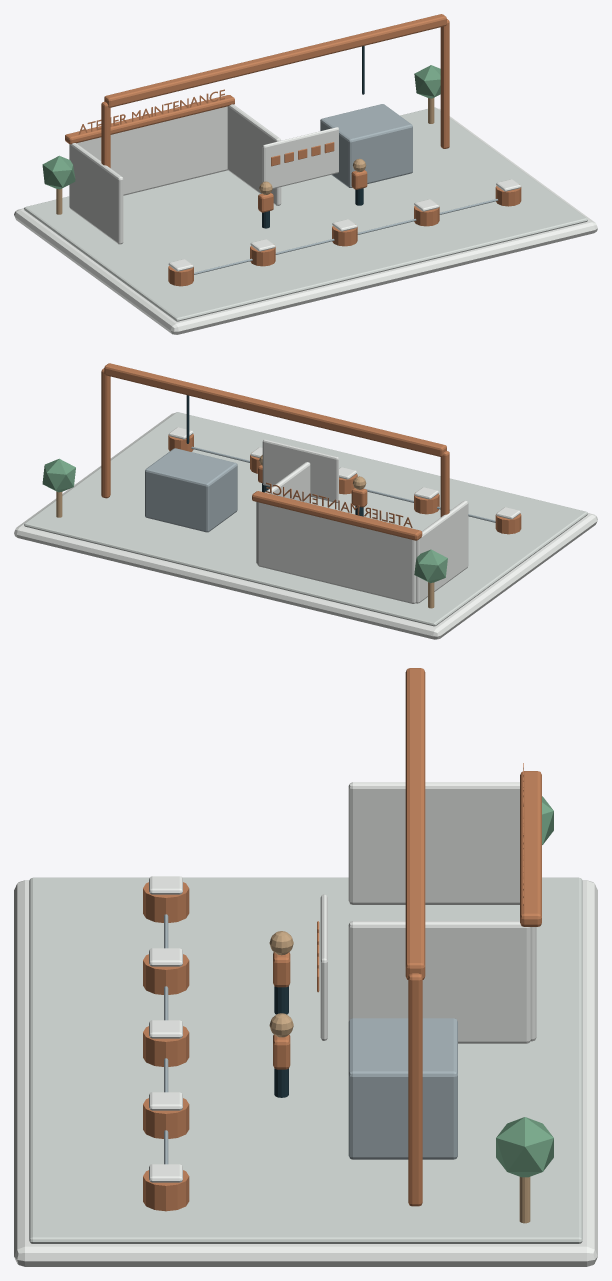
File: terrain.glb
3 renders of one model, top to bottom at view 1: azimuth 30°, elevation 25°; view 2: azimuth 150°, elevation 25°; view 3: azimuth 270°, elevation 25°, orthographic. The views are drawn at different scales.
Visible parts, largest first — view 1: Activity ground, Project island, ATELIER MAINTENANCE back, Repair assembly, Gantry beam, ATELIER MAINTENANCE side, Gemba board, ATELIER MAINTENANCE side.001, ATELIER MAINTENANCE fascia, Gantry upright.001, Icosphere, Sign ATELIER MAINTENANCE (+3 smaller); view 2: Activity ground, ATELIER MAINTENANCE back, Project island, Repair assembly, Gantry beam, Gemba board, ATELIER MAINTENANCE side, ATELIER MAINTENANCE fascia, Gantry upright.001, ATELIER MAINTENANCE side.001, Icosphere.001, Icosphere (+4 smaller); view 3: Activity ground, Project island, ATELIER MAINTENANCE side, ATELIER MAINTENANCE side.001, Repair assembly, Gantry beam, Gantry upright.001, ATELIER MAINTENANCE fascia, Icosphere.001, Process checkpoint.004, Process checkpoint, Process checkpoint.001 (+3 smaller).
Boxes of the visible parts, <box> form: Activity ground: <box>24,107,587,321</box>; Project island: <box>14,108,597,334</box>; ATELIER MAINTENANCE back: <box>77,106,227,195</box>; Repair assembly: <box>320,104,412,187</box>; Gantry beam: <box>104,14,446,107</box>; ATELIER MAINTENANCE side: <box>69,143,123,244</box>; Gemba board: <box>262,127,338,188</box>; ATELIER MAINTENANCE side.001: <box>227,104,281,205</box>; ATELIER MAINTENANCE fascia: <box>65,95,234,144</box>; Gantry upright.001: <box>440,19,449,148</box>; Icosphere: <box>42,155,75,189</box>; Sign ATELIER MAINTENANCE: <box>78,89,224,134</box>; Activity ground: <box>24,412,587,626</box>; ATELIER MAINTENANCE back: <box>257,502,415,603</box>; Project island: <box>14,413,597,639</box>; Repair assembly: <box>145,448,237,532</box>; Gantry beam: <box>104,363,446,456</box>; Gemba board: <box>262,439,338,502</box>; ATELIER MAINTENANCE side: <box>416,500,468,603</box>; ATELIER MAINTENANCE fascia: <box>252,491,422,540</box>; Gantry upright.001: <box>101,368,110,498</box>; ATELIER MAINTENANCE side.001: <box>256,462,310,564</box>; Icosphere.001: <box>42,458,75,492</box>; Icosphere: <box>414,549,447,583</box>; Activity ground: <box>29,877,582,1243</box>; Project island: <box>14,880,597,1266</box>; ATELIER MAINTENANCE side: <box>348,782,519,904</box>; ATELIER MAINTENANCE side.001: <box>348,921,530,1043</box>; Repair assembly: <box>348,1018,457,1159</box>; Gantry beam: <box>405,668,425,979</box>; Gantry upright.001: <box>408,973,422,1206</box>; ATELIER MAINTENANCE fascia: <box>520,771,541,926</box>; Icosphere.001: <box>496,1117,553,1177</box>; Process checkpoint.004: <box>143,1170,189,1211</box>; Process checkpoint: <box>143,882,189,922</box>; Process checkpoint.001: <box>143,954,189,994</box>.
Size of the model in its own units: 7.3 by 2.43 by 4.8.
